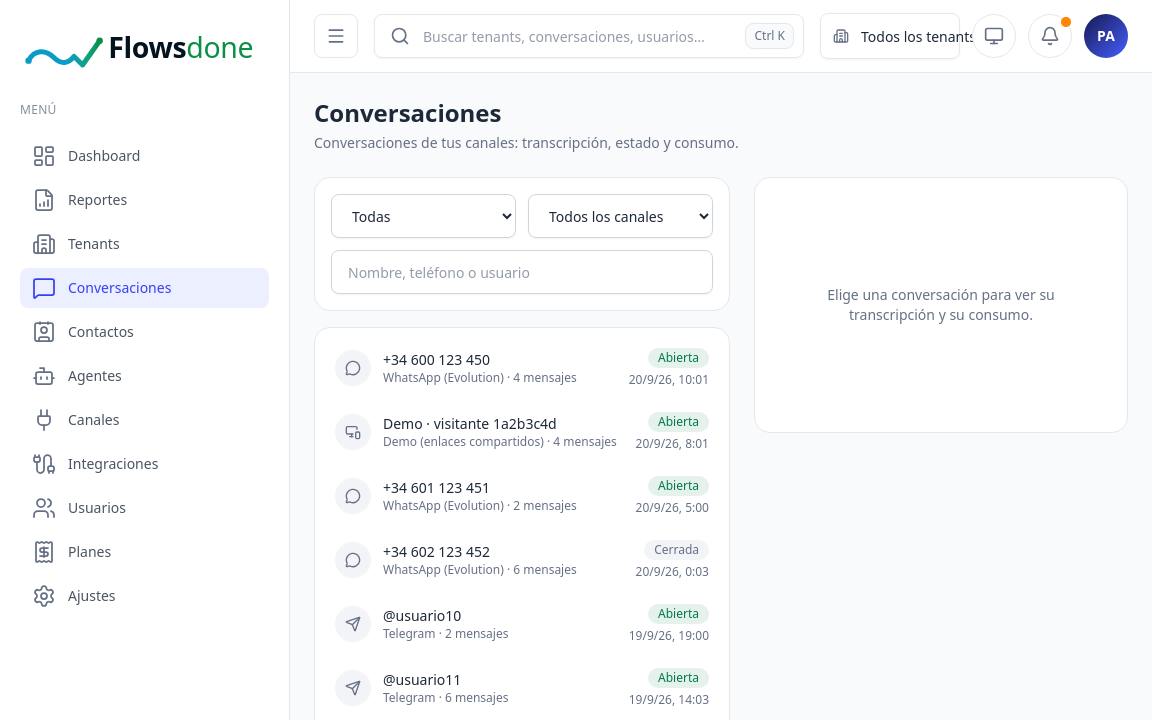
Scenario: ConversationsPage › sin resultados muestra el estado vacío
This screenshot has width=1152, height=720.
Type "nadie-con-este-nombre" into the search field named "Contacto" at (522, 272), box [331, 250, 713, 294]
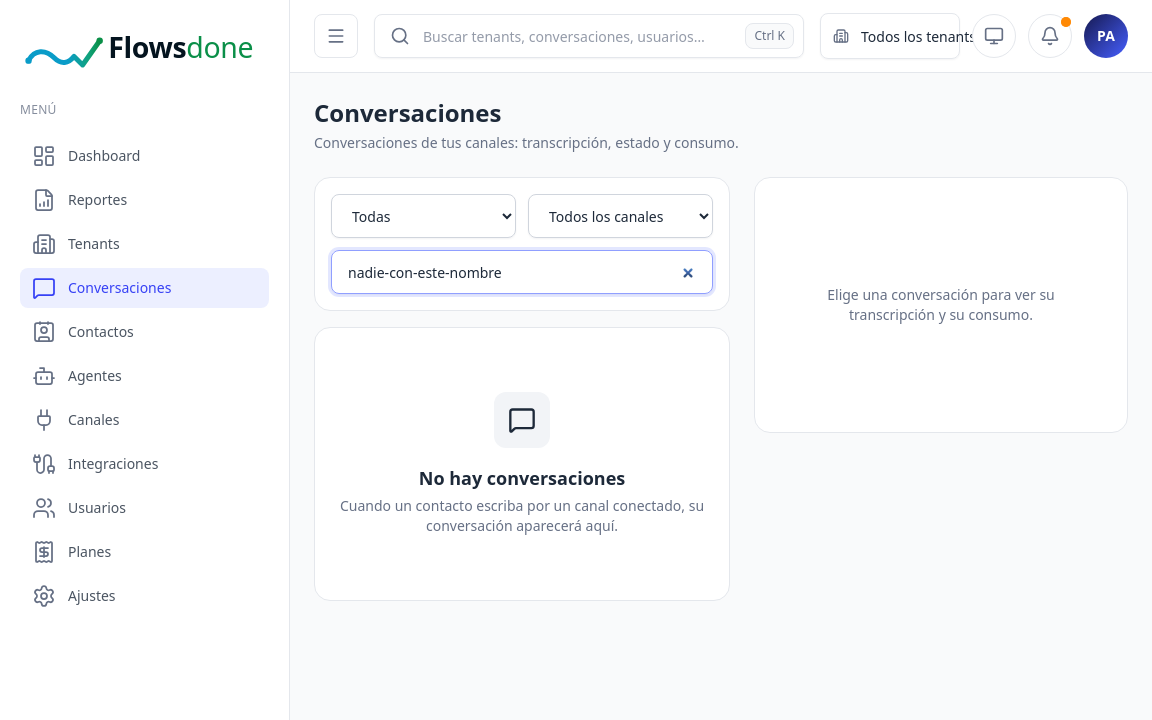
Expected: the heading "No hay conversaciones" is shown, [419, 464, 625, 492]
